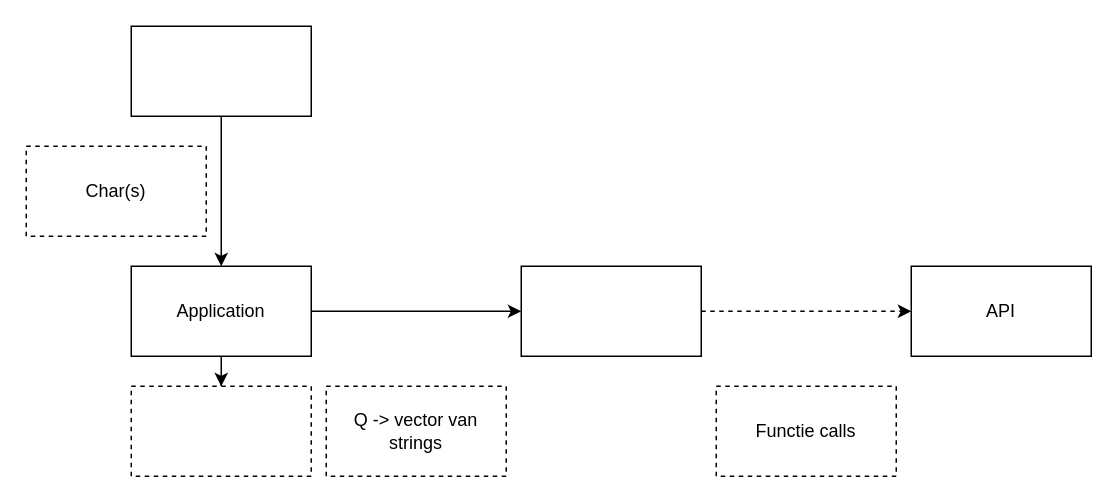
The diagram is 1118 pixels wide and 503 high, and some of its shapes have lost their labels. The shapes that lost their labels are listed below. From the top down, each one's centre as x and y in pixels, then its label:
At (x=220, y=70): "UI".
At (x=610, y=310): "BLL".
At (x=220, y=430): "Interrupt \n".
